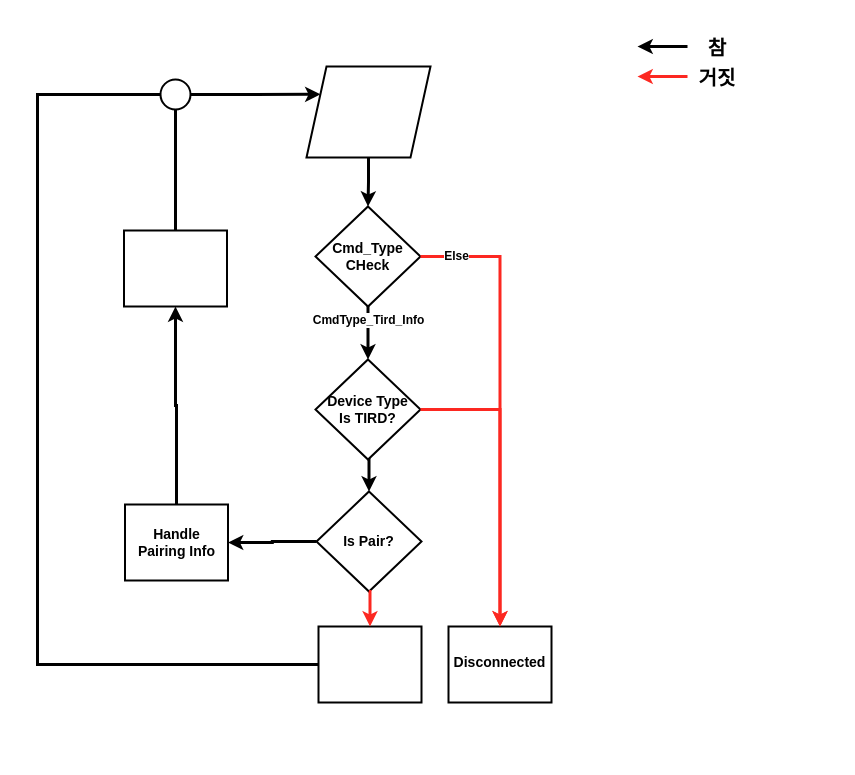
Some shapes in this 855 by 775 pixel diagram are drawn without their labels. The shapes that lost their labels are listed below. From the top down, each one's centre as x and y in pixels, then its label:
[368,111]: Recv Packet
[175,268]: Send Input Data To Target
[369,664]: Handle Update Pending Info
